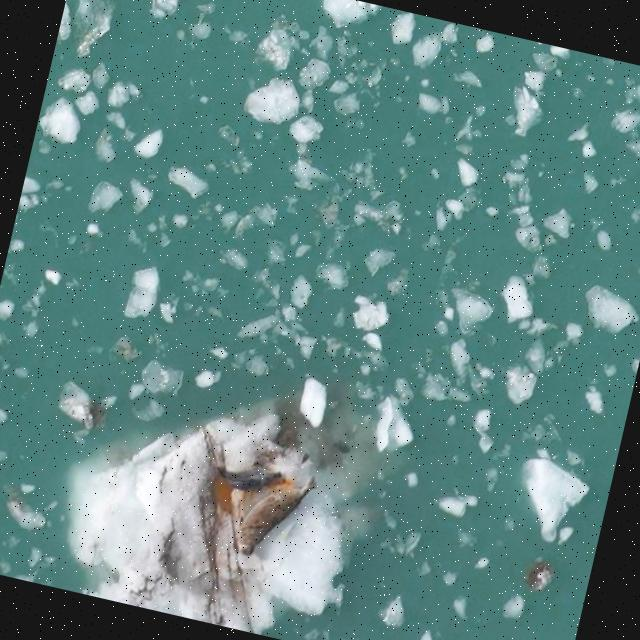seal: (219, 456, 322, 561)
